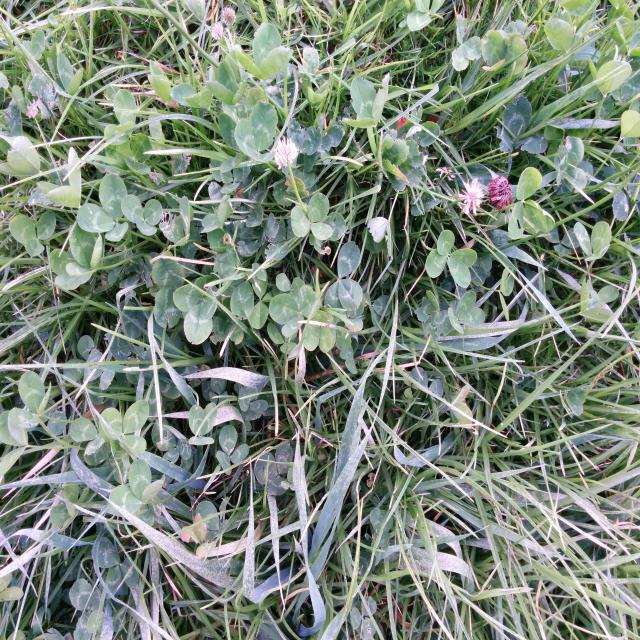Four Leaf Clover: (425, 230, 477, 288)
